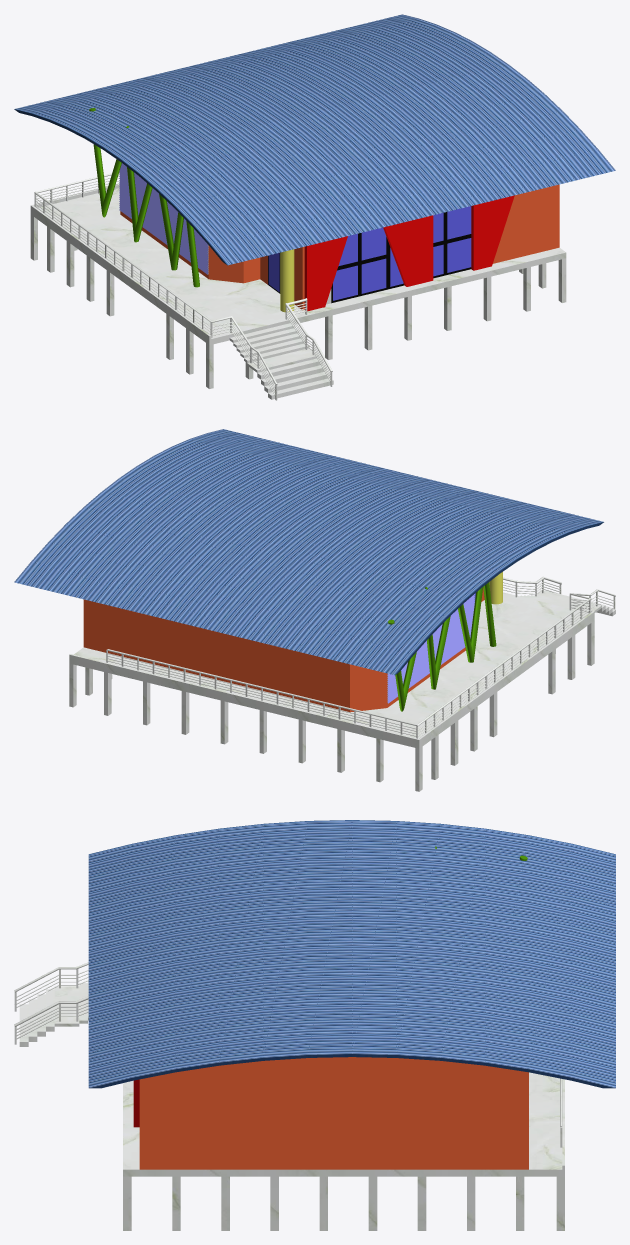
File: Toadanang.fbx
3 renders of one model, top to bottom at view 1: azimuth 30°, elevation 25°; view 2: azimuth 150°, elevation 25°; view 3: azimuth 270°, elevation 25°, orthographic. The views are drawn at different scales.
Visible parts, largest first — view 1: T_a__a_n_ng_1; view 2: T_a__a_n_ng_1; view 3: T_a__a_n_ng_1.
Boxes of the visible parts, box(x1,y1,x2,y2) form: T_a__a_n_ng_1: box(14, 14, 615, 400); T_a__a_n_ng_1: box(14, 429, 615, 791); T_a__a_n_ng_1: box(14, 820, 615, 1230).
Bounding box in the file's own units: 33285 × 13020 × 35799.
